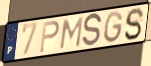7: (21, 21, 40, 58)
G: (103, 10, 124, 45)
M: (58, 15, 85, 50)
P: (38, 20, 60, 54)
S: (81, 12, 103, 49), (123, 7, 145, 42)
